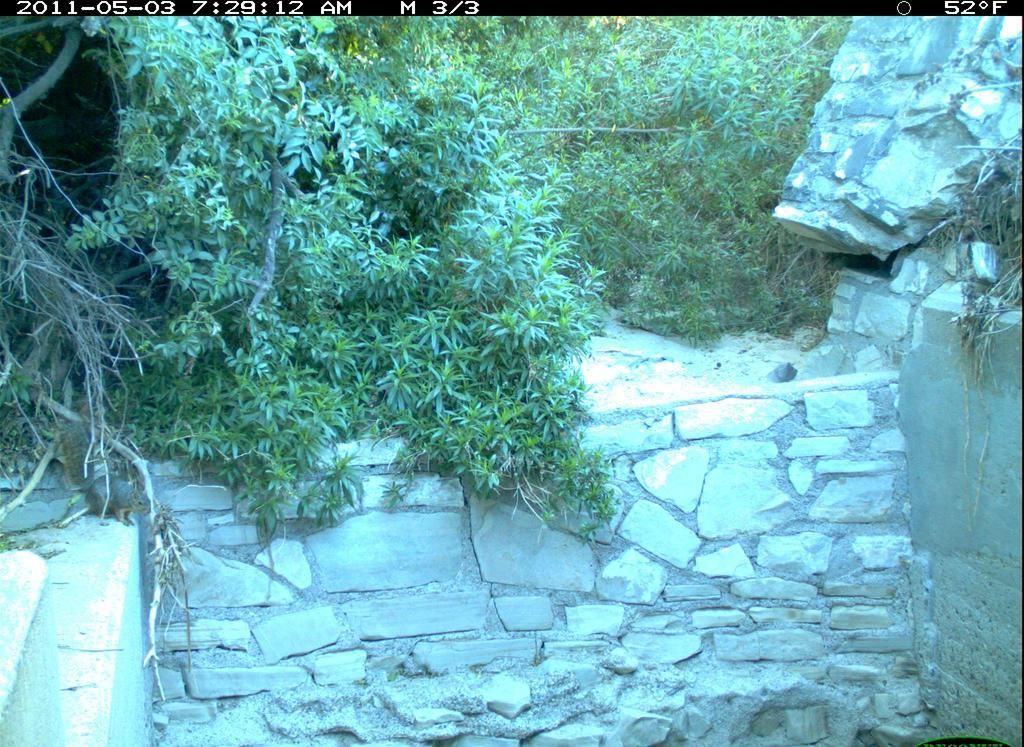squirrel: (38, 415, 159, 528)
